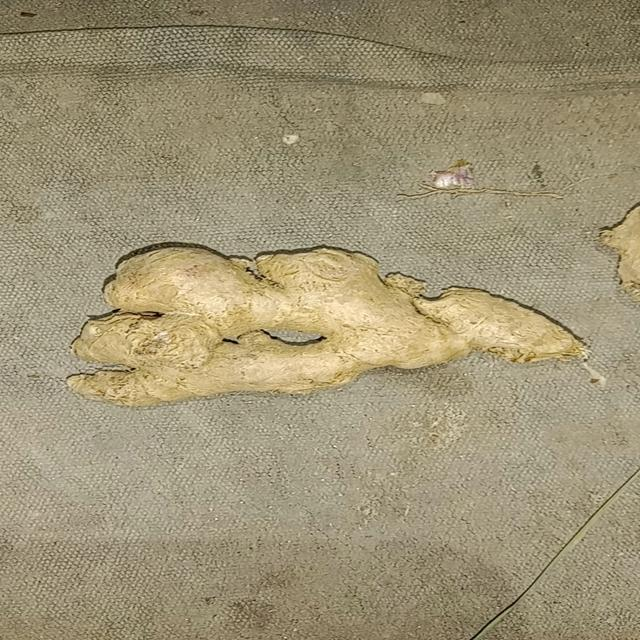ginger: (70, 248, 588, 408)
